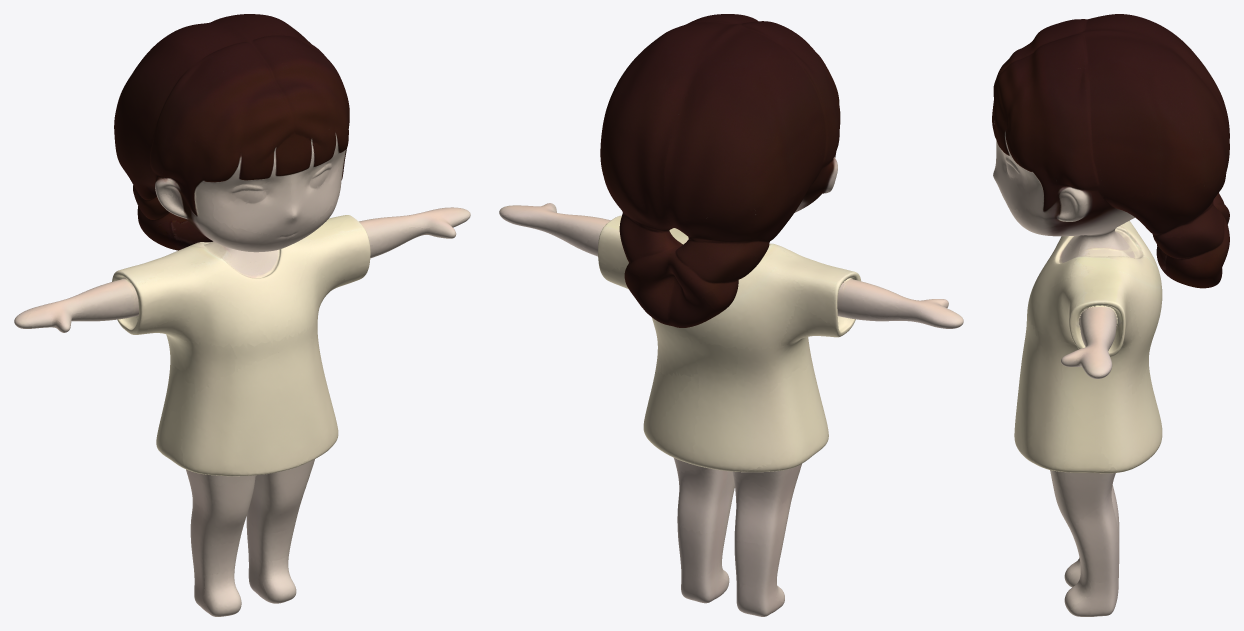
Rendered from baked_hair_braid.glb.
3 renders of one model, left to right at view 1: azimuth 30°, elevation 25°; view 2: azimuth 150°, elevation 25°; view 3: azimuth 270°, elevation 25°, orthographic.
Size of the model in its own units: 1.59 by 1.9 by 0.7216.
1 material, 1 textured.
